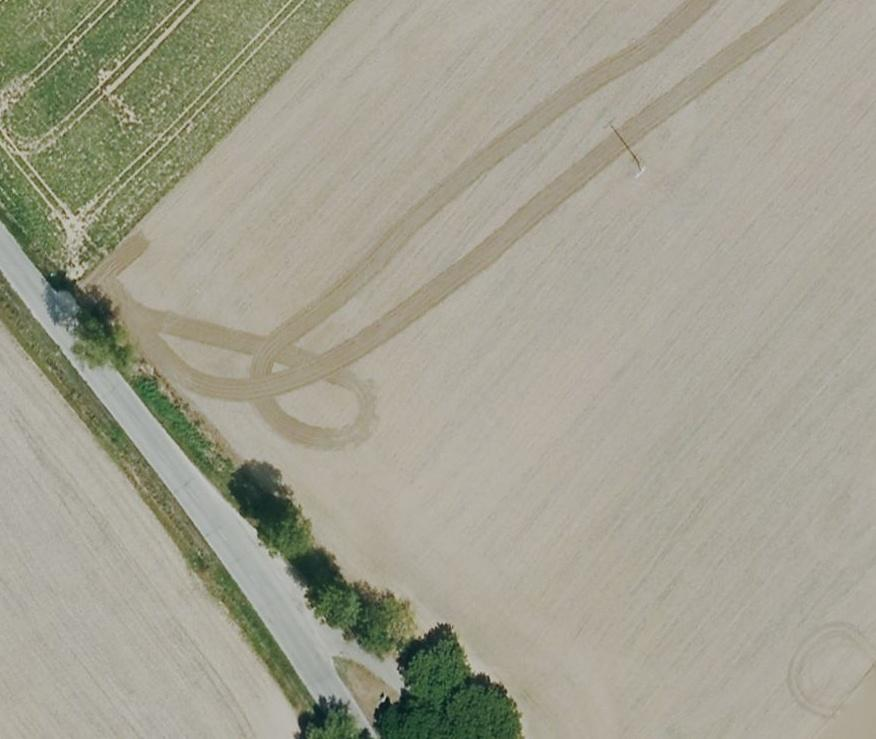field: (0, 0, 876, 736), (0, 279, 308, 735)
forest: (229, 462, 520, 737)
